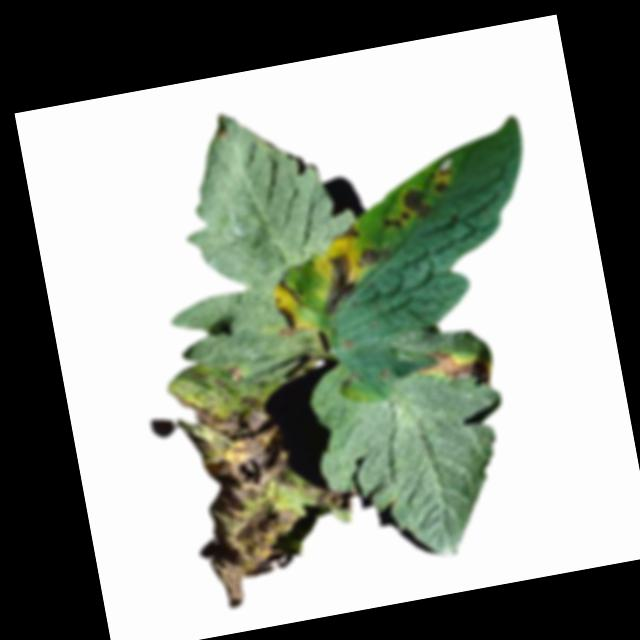Early_blight: (165, 340, 375, 613), (405, 339, 494, 401), (312, 248, 362, 317), (376, 188, 428, 234), (270, 296, 306, 341), (358, 243, 393, 270), (430, 166, 458, 198), (331, 222, 361, 243)
